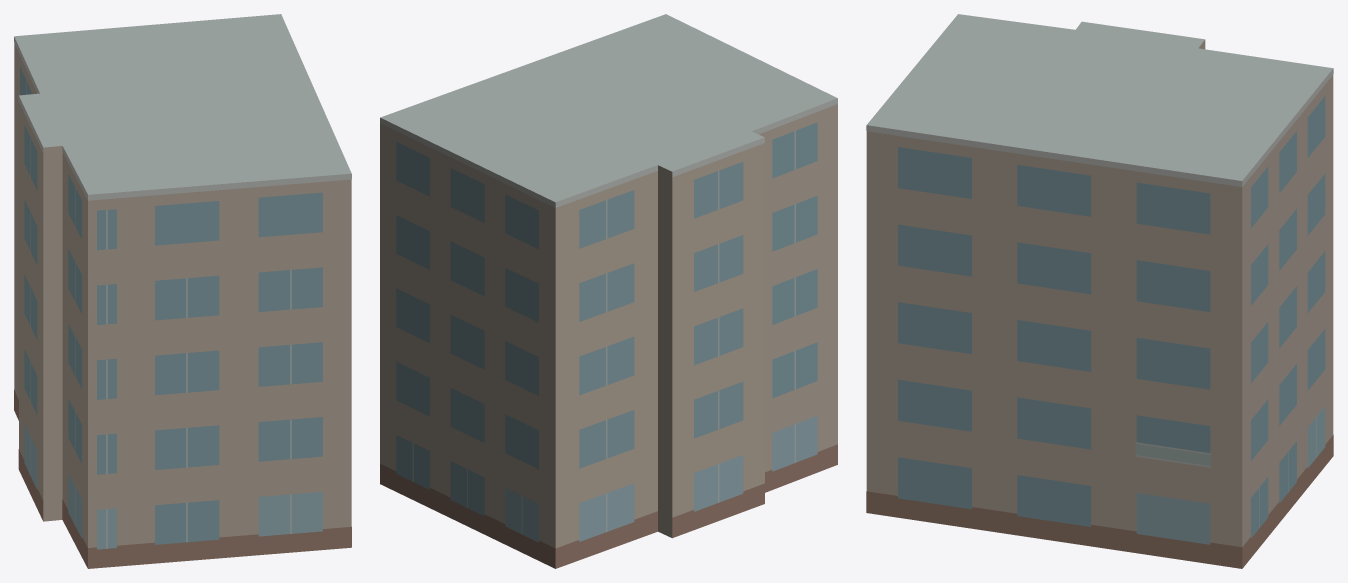
Rendered from survey-upis-32882579.glb.
3 renders of one model, left to right at view 1: azimuth 30°, elevation 25°; view 2: azimuth 150°, elevation 25°; view 3: azimuth 270°, elevation 25°, orthographic. The views are drawn at different scales.
Parts seen in each view (by area): view 1: survey-upis-32882579.tmp; view 2: survey-upis-32882579.tmp; view 3: survey-upis-32882579.tmp.
Part boxes in pixels (bbox=[...]): survey-upis-32882579.tmp: bbox=[14, 14, 351, 568]; survey-upis-32882579.tmp: bbox=[380, 14, 837, 568]; survey-upis-32882579.tmp: bbox=[866, 14, 1333, 568].
Bounding box in the file's own units: 14.47 × 15.65 × 17.09.
